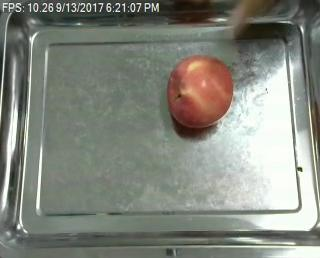apple: (167, 54, 234, 129)
